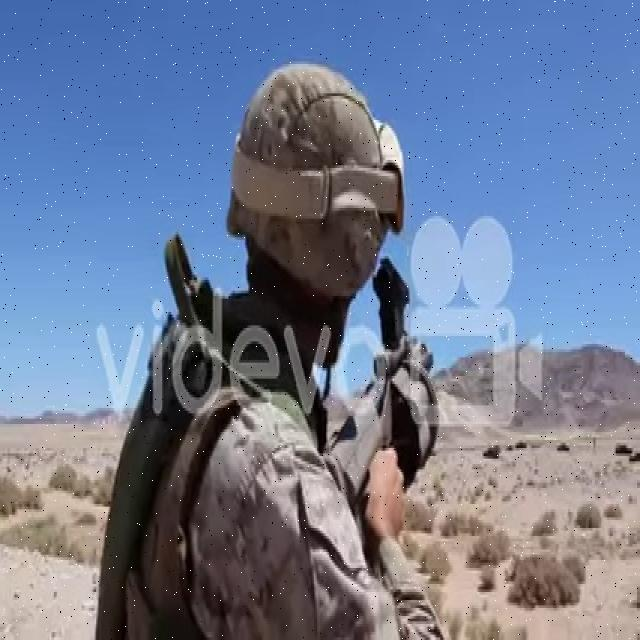bazooka: (330, 324, 451, 518)
